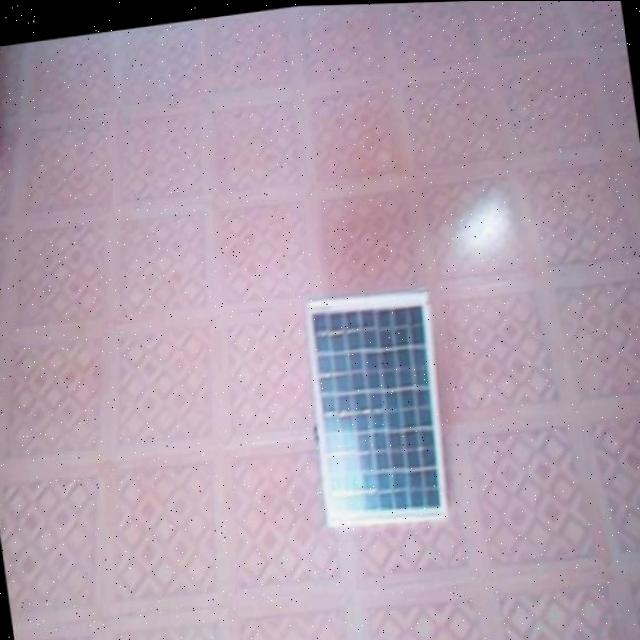Normal Solar Panel: (298, 287, 456, 529)
